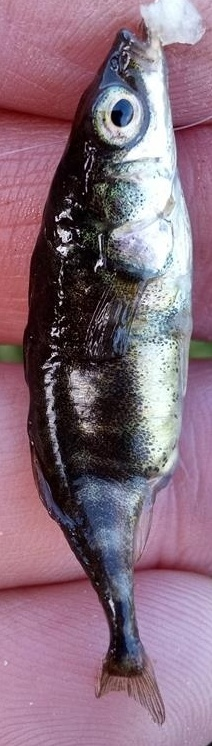Gasterosteus aculeatus: (20, 20, 192, 726)
